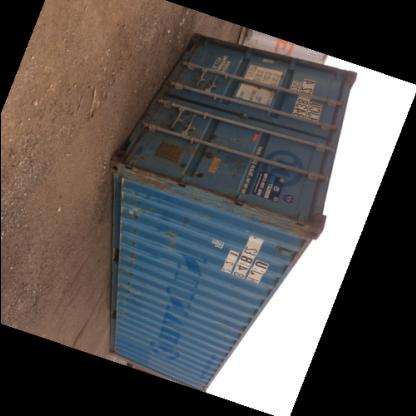Damage: (122, 208, 140, 308), (278, 211, 322, 247), (114, 164, 172, 190), (179, 186, 233, 210), (240, 204, 296, 226), (148, 96, 182, 130), (223, 151, 253, 185), (173, 66, 203, 86), (186, 30, 214, 51), (161, 228, 181, 256), (201, 128, 225, 142), (202, 147, 218, 163)
